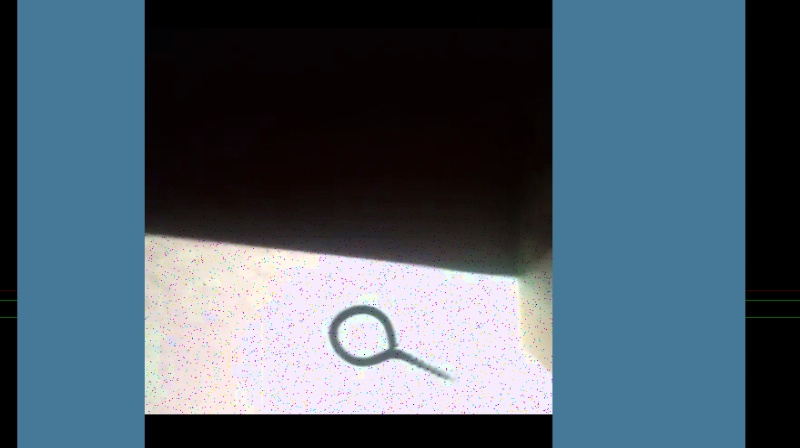O001: (325, 301, 458, 386)
